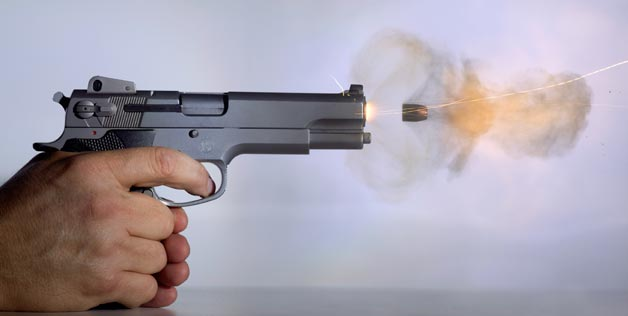Gun: (119, 79, 383, 181)
